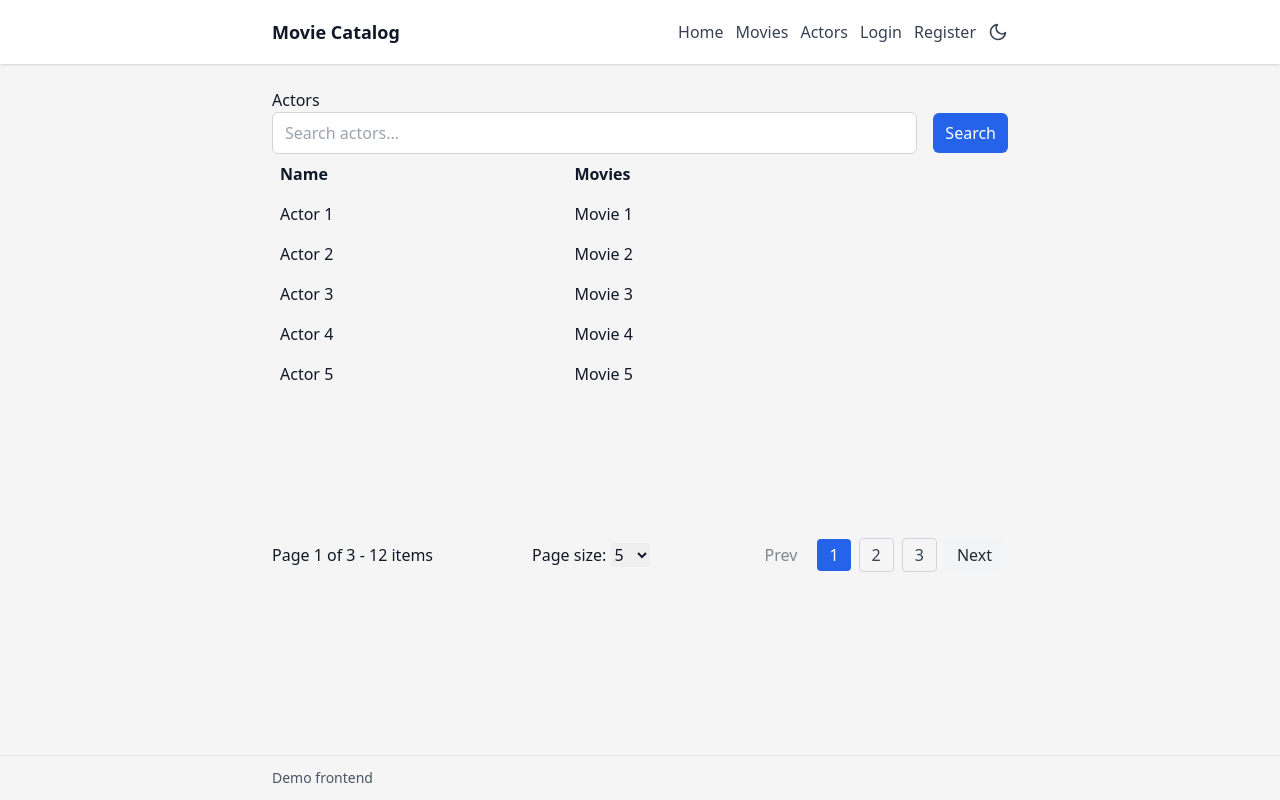
Test: Actors interactions › handles pagination controls and page size changes
Expected: the link "Actor 1" is shown, [280,203,333,225]
Expected: the text "Page 1 of 3 - 12 items" is shown, [272,543,433,567]
# click page 2 via numbered button
Click the button "2": (876,555) [859,538,894,572]
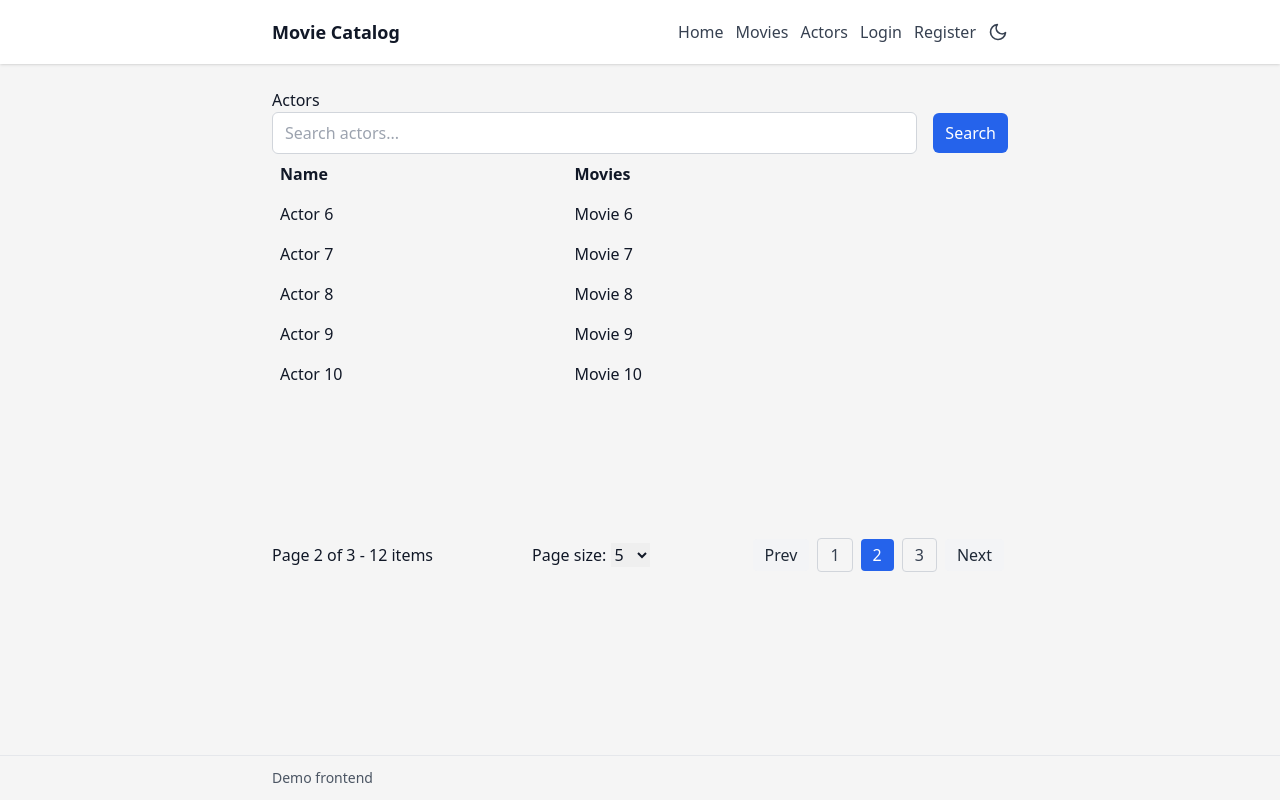
Expected: the link "Actor 6" is shown, [280,203,333,225]
Expected: the text "Page 2 of 3 - 12 items" is shown, [272,543,433,567]
# click Next to go to page 3
Click the button "Next": (974,555) [945,539,1004,571]
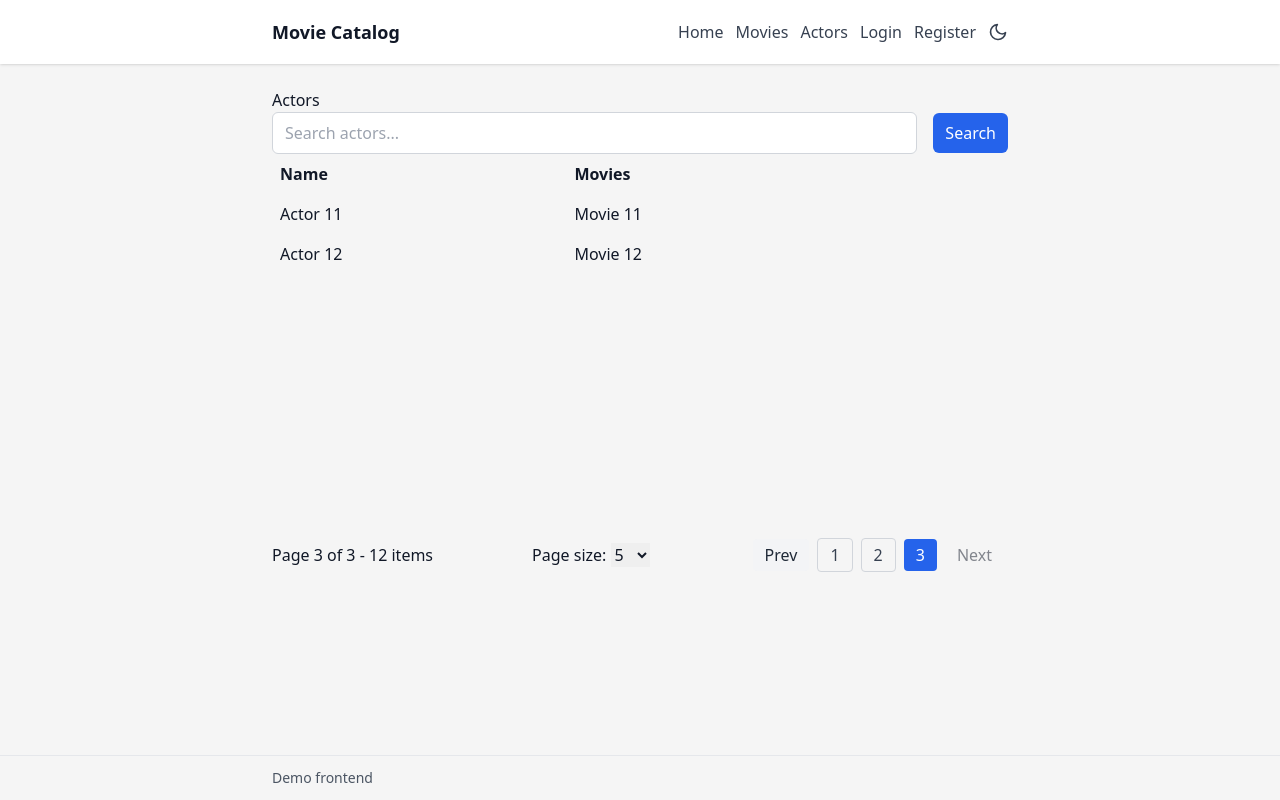
Expected: the link "Actor 11" is shown, [280,203,342,225]
Expected: the text "Page 3 of 3 - 12 items" is shown, [272,543,433,567]
# click Prev to go back to page 2
Click the button "Prev": (781,555) [753,539,809,571]
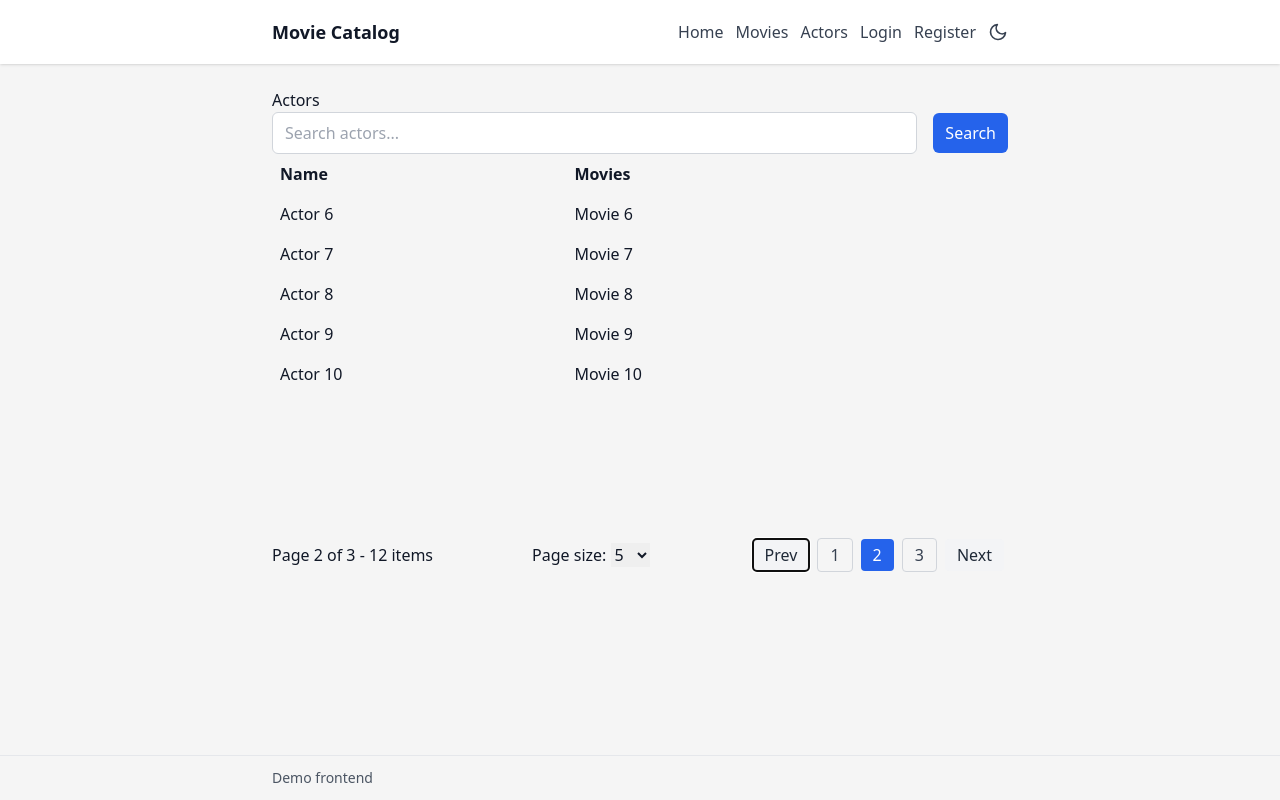
Expected: the link "Actor 6" is shown, [280,203,333,225]
Expected: the text "Page 2 of 3 - 12 items" is shown, [272,543,433,567]
# change page size to 10 and ensure page resets and totalPages updates
Select "10" in the dropdown: (630,555) [610,543,650,567]
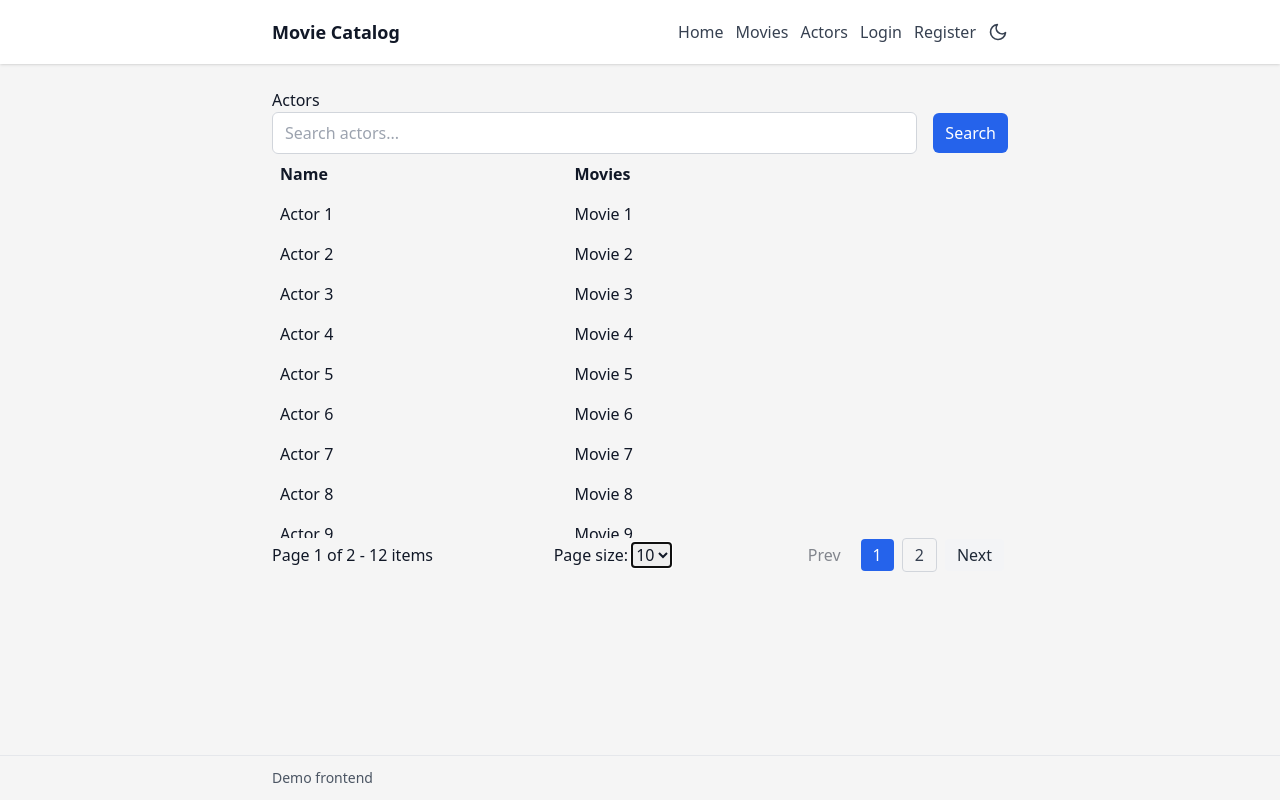
Expected: the link "Actor 1" is shown, [280,203,333,225]
Expected: the text "Page 1 of 2 - 12 items" is shown, [272,543,433,567]
